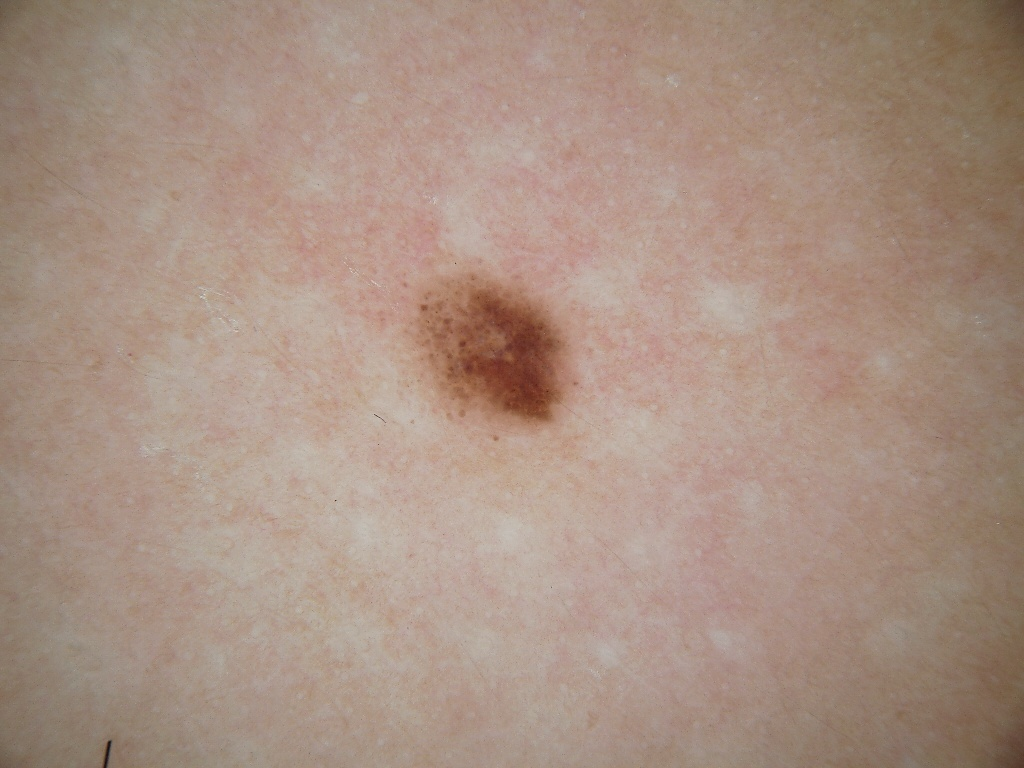Detected Lesion: (402, 261, 582, 429)
